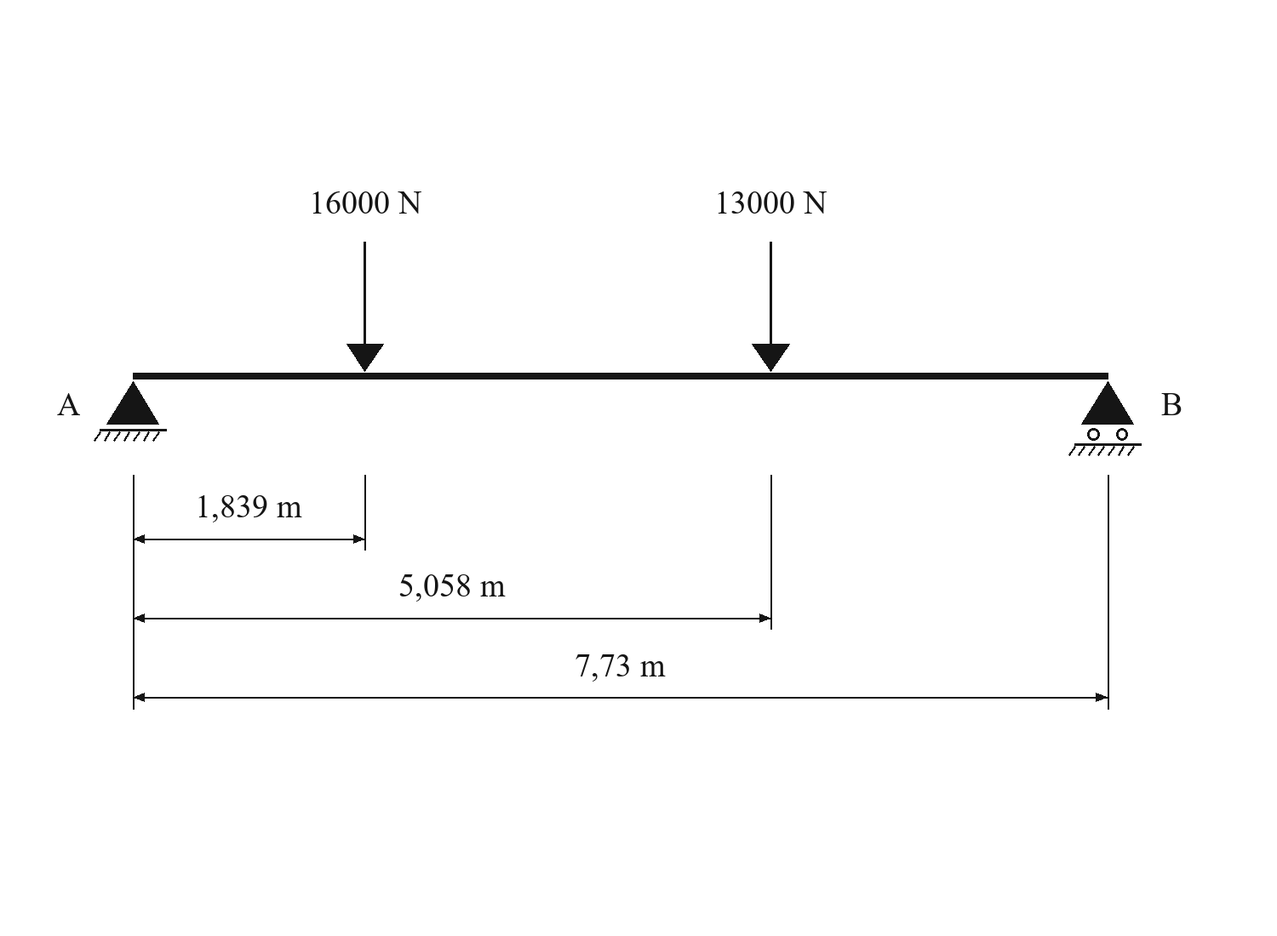pin_support: (94, 381, 167, 442)
point_load: (346, 242, 384, 372), (752, 242, 790, 372)
roller_support: (1068, 381, 1142, 456)
